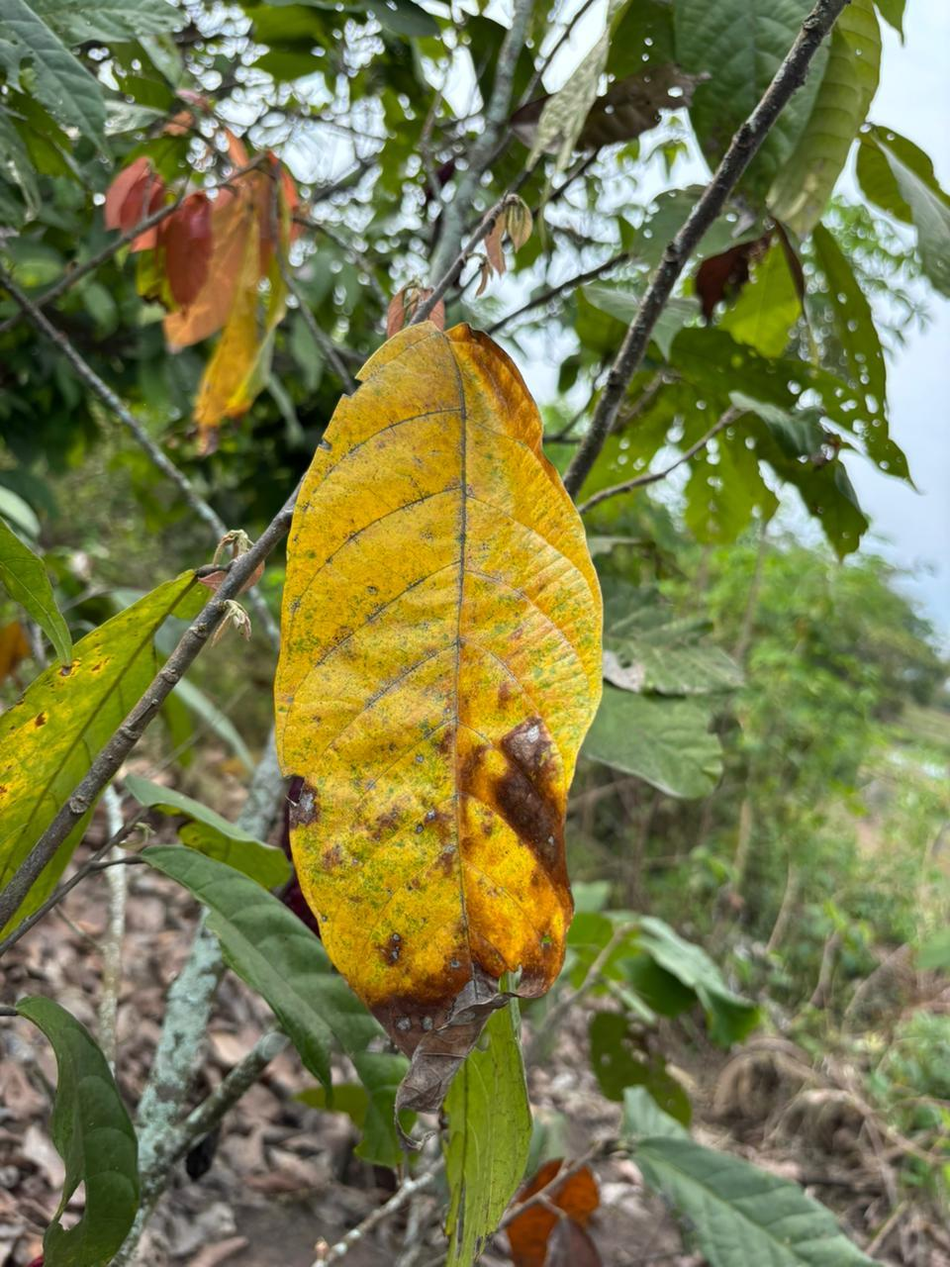deficienciia_fosforo: (274, 323, 602, 1107)
